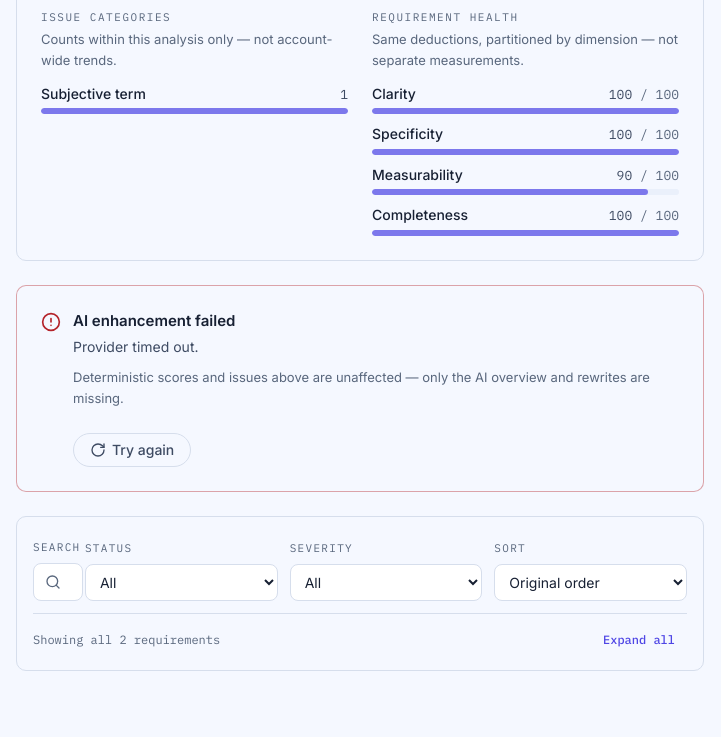
AnalysisReportScreen › AI retry posts, then silently re-reads into the ok state (Stage 17)
(page scrolled)
expect the heading "AI enhancement failed" is shown: met, box [73,311,235,330]
Click the button "Try again" at (132, 450), box [73,433,191,467]
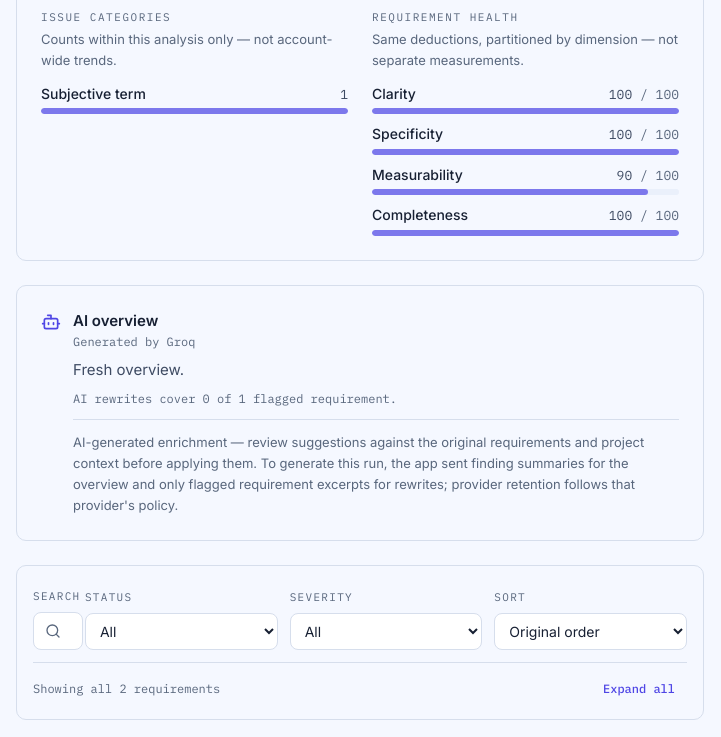
expect the heading "AI overview" is shown: met, box [73,311,158,330]
expect the text "Fresh overview." is shown: met, box [73,360,184,379]
